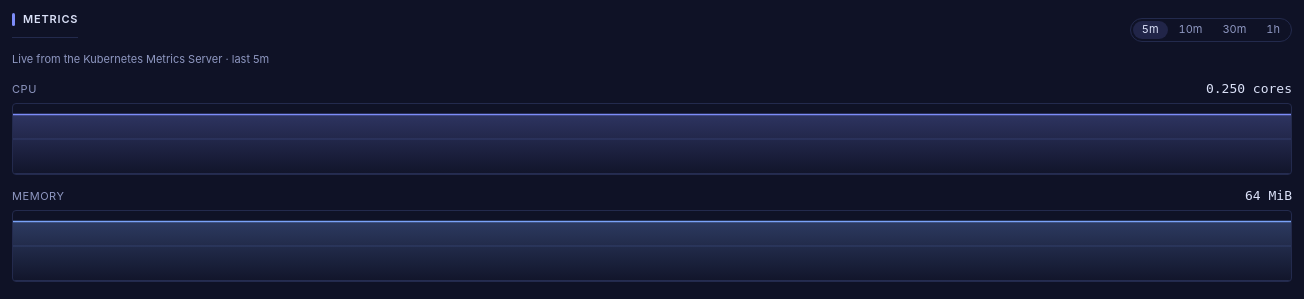
Scenario: MetricsPanel › offers a time-range picker that re-polls at the new window
Check: the text "0.250 cores" is shown, box [1206, 80, 1292, 99]
Check: the text "Live from the Kubernetes Metrics Server · last 5m" is shown, box [12, 52, 269, 66]
Click the button "1h". click: (1273, 30)
box: [1257, 21, 1289, 39]
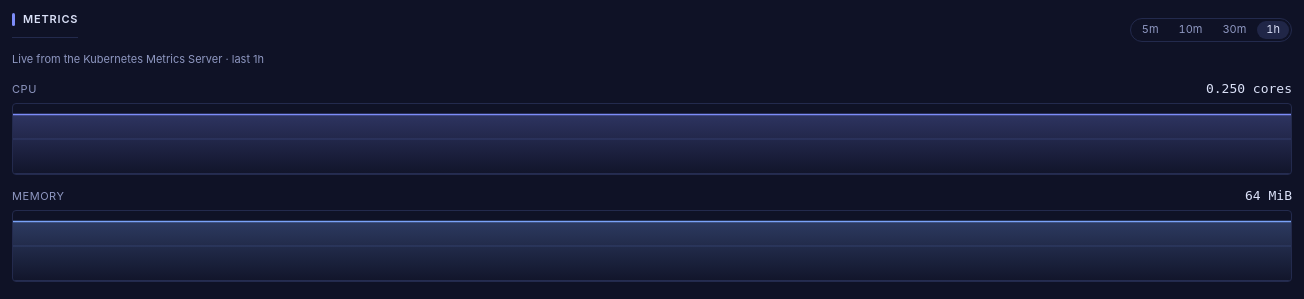
Check: the text "Live from the Kubernetes Metrics Server · last 1h" is shown, box [12, 52, 264, 66]
